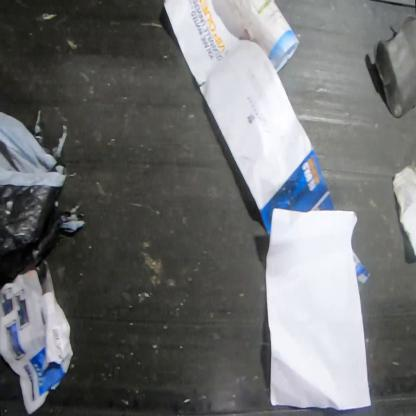rigid_plastic: (374, 16, 416, 120)
soft_plastic: (0, 112, 86, 291)
